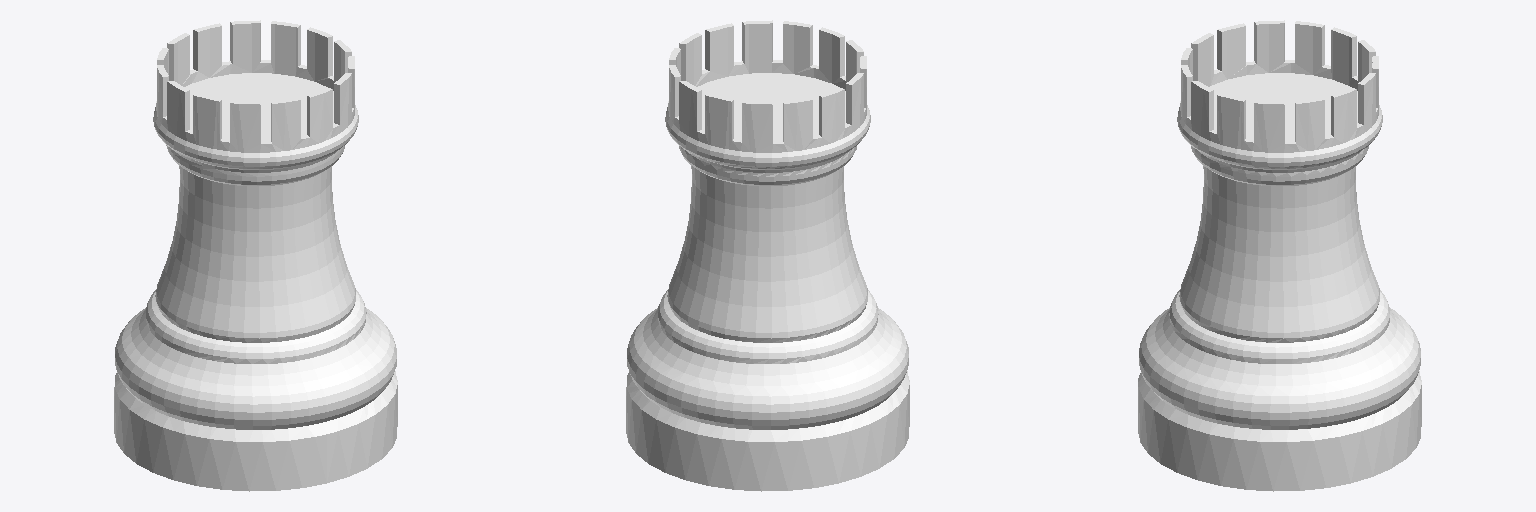
robot.urdf — Castle_white:
<?xml version="1.0" encoding="utf-8"?>
<!-- This URDF was automatically created by SolidWorks to URDF Exporter! Originally created by [author] ([email redacted]) 
     Commit Version: 1.5.1-0-g916b5db  Build Version: 1.5.7152.31018
     For more information, please see http://wiki.ros.org/sw_urdf_exporter -->
<robot
  name="Castle_white">
  <link
    name="Castle_white">
    <inertial>
      <origin
        xyz="-2.138E-19 1.32996799703808E-18 0.012613"
        rpy="0 0 0" />
      <mass
        value="0.010169" />
      <inertia
        ixx="1.2474E-06"
        ixy="-7.1802E-24"
        ixz="5.0953E-23"
        iyy="1.2474E-06"
        iyz="-8.28381287814304E-23"
        izz="6.1949E-07" />
    </inertial>
    <visual>
      <origin
        xyz="0 0 0"
        rpy="1.5707963267949 0 0" />
      <geometry>
        <mesh
          filename="package://Castle_white/meshes/Castle_white.STL" />
      </geometry>
      <material
        name="">
        <color
          rgba="1 1 1 1" />
        <texture
          filename="package://Castle_white/textures/" />
      </material>
    </visual>
    <collision>
      <origin
        xyz="0 0 0"
        rpy="1.5707963267949 0 0" />
      <geometry>
        <mesh
          filename="package://Castle_white/meshes/Castle_white.STL" />
      </geometry>
    </collision>
  </link>
</robot>

--- Render facts (derived) ---
The picture shows the robot from 3 angles, left to right: view 1: azimuth 30°, elevation 25°; view 2: azimuth 150°, elevation 25°; view 3: azimuth 270°, elevation 25°; orthographic projection.
Model Castle_white with 1 links and 0 joints (none), rooted at Castle_white, posed every joint at zero.
Visible links, largest first — view 1: Castle_white; view 2: Castle_white; view 3: Castle_white.
Boxes of the visible links, x1=… form: Castle_white: x1=114, y1=20, x2=397, y2=491; Castle_white: x1=626, y1=20, x2=909, y2=491; Castle_white: x1=1138, y1=20, x2=1421, y2=491.
Bounding box of the posed robot: 0.026 × 0.0261 × 0.0374 m (x, y, z).
Meshes: 1 distinct files referenced, 1 mesh visuals loaded (1 binary STL).
